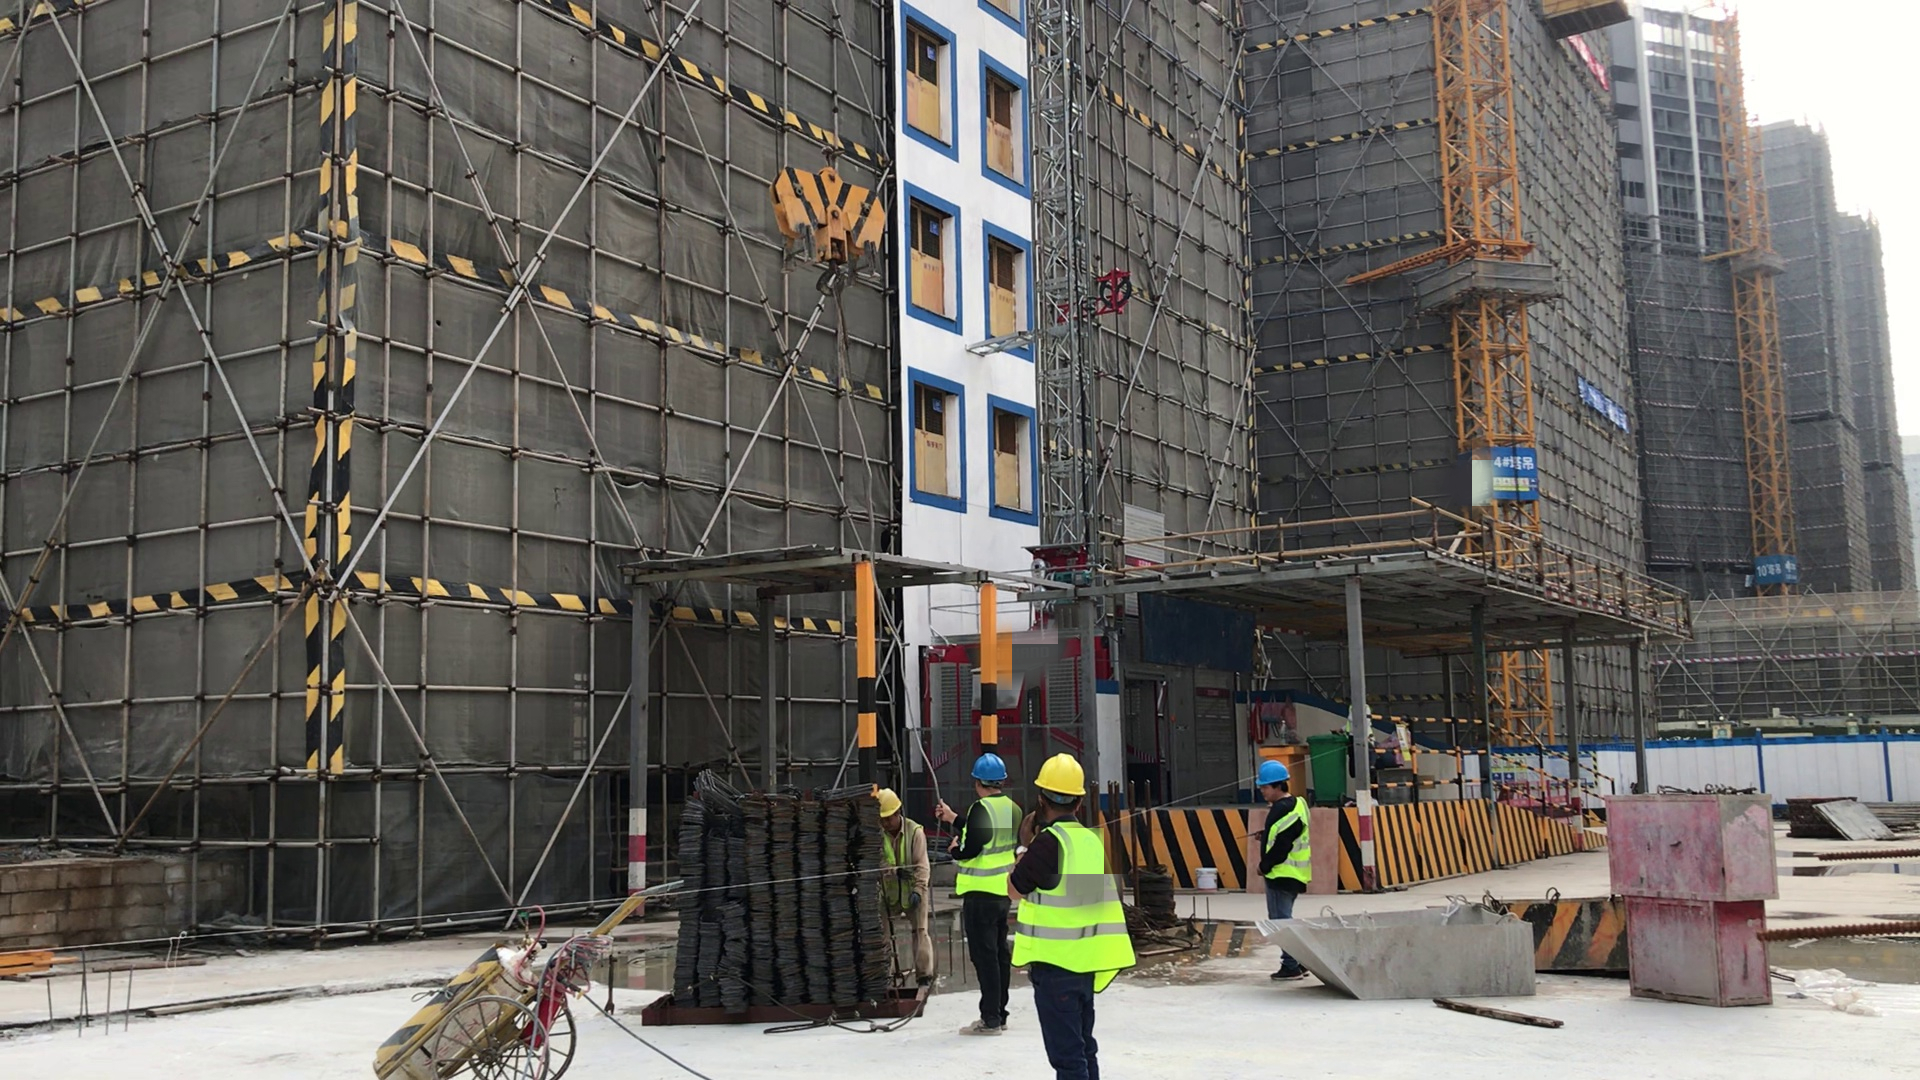helmet: (1033, 751, 1091, 801), (969, 748, 1008, 786), (1249, 754, 1290, 790), (872, 786, 901, 818)
person: (1021, 755, 1149, 1080), (955, 752, 1019, 1043), (872, 782, 942, 991), (1256, 754, 1318, 986)
vest: (1010, 808, 1141, 995), (946, 781, 1013, 907), (1264, 793, 1310, 894), (884, 824, 918, 906)
